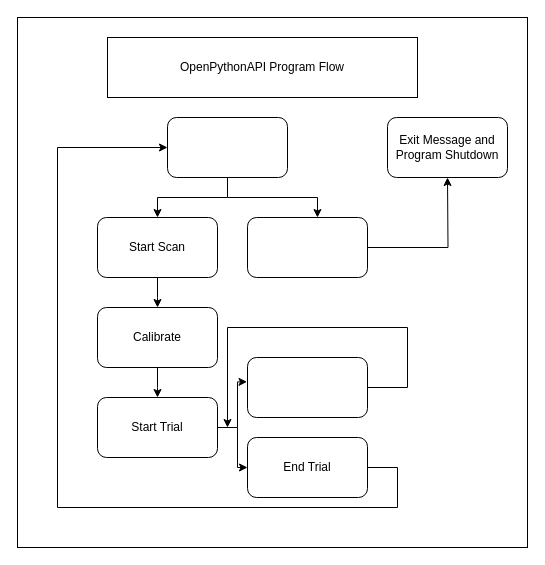
This 545x565 diagram has some shape labels left out. The shapes that lost their labels are listed below. From the top down, each one's box as (x1, y1, x2, y2) in pixels, then its label:
(166, 116, 288, 178): Program Start
(246, 216, 368, 278): End Program
(246, 356, 368, 418): Update Torque
